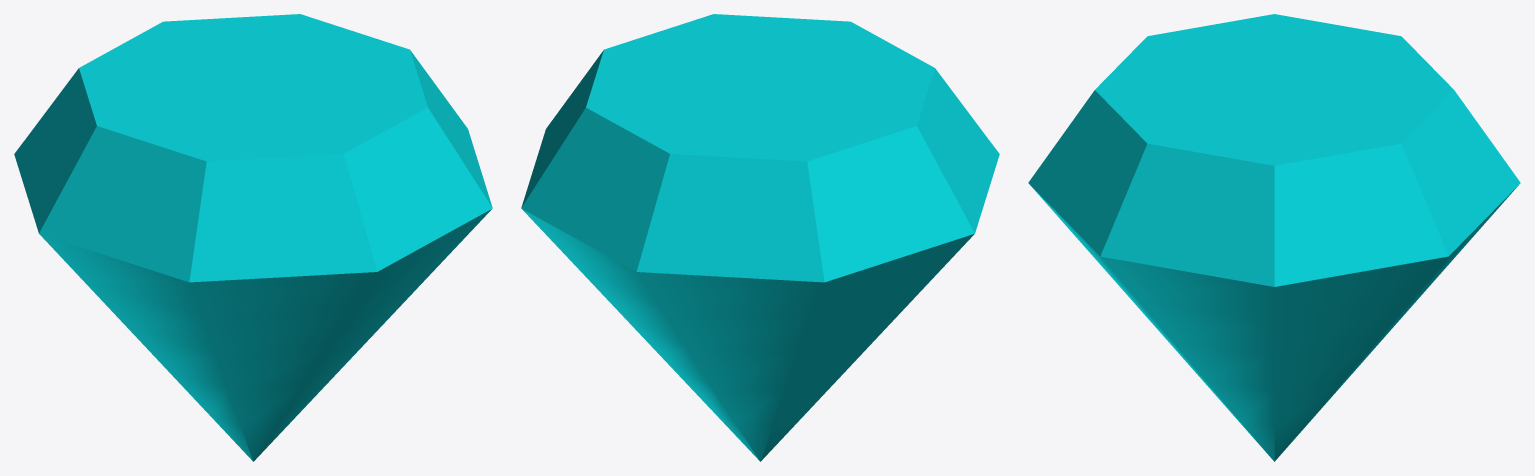
The model's file is eye plug.FBX.
The picture shows the model from 3 angles, left to right: view 1: azimuth 30°, elevation 25°; view 2: azimuth 150°, elevation 25°; view 3: azimuth 270°, elevation 25°; orthographic projection.
Visible parts, largest first — view 1: Cone001; view 2: Cone001; view 3: Cone001.
Boxes of the visible parts, x1,y1,x2,y2 form: Cone001: [14, 14, 492, 461]; Cone001: [521, 14, 999, 461]; Cone001: [1028, 14, 1520, 461].
Size of the model in its own units: 24 by 20 by 24.
